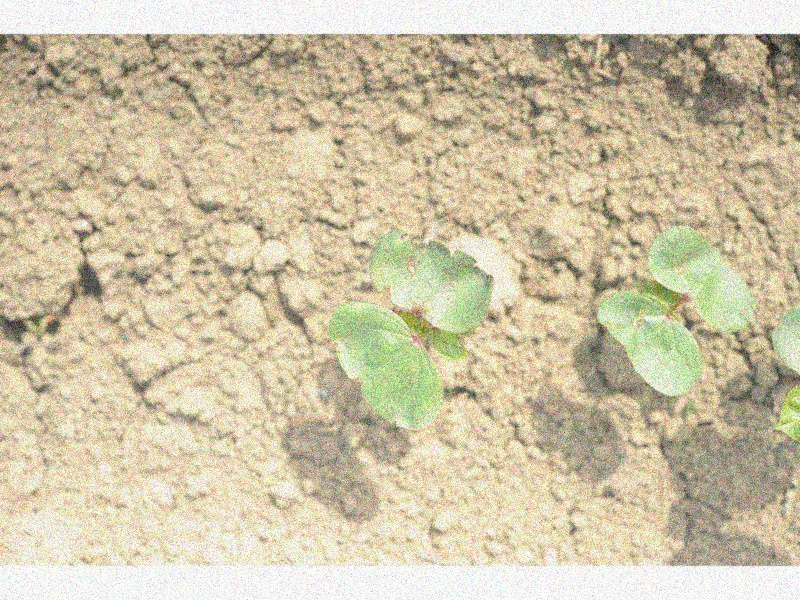cotton: (326, 227, 493, 432), (595, 223, 755, 397)
